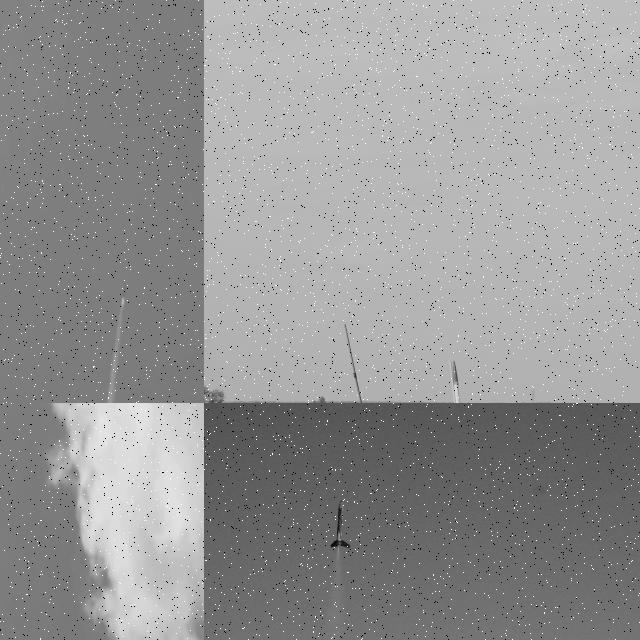Rocket: (330, 498, 350, 548), (452, 360, 460, 403), (122, 280, 126, 299)
